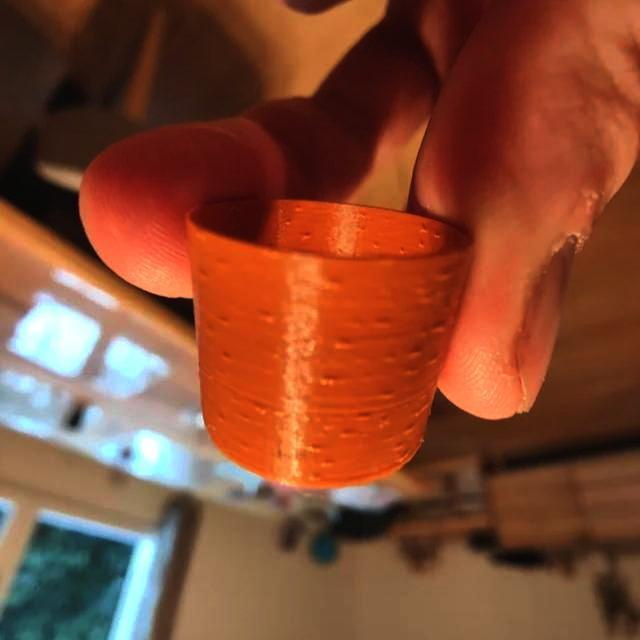zits: (332, 336, 356, 354), (192, 262, 216, 280), (315, 374, 339, 388), (315, 457, 337, 472), (306, 443, 326, 459), (426, 322, 446, 338), (373, 316, 395, 330), (215, 314, 233, 331), (262, 310, 278, 328), (338, 430, 358, 444), (218, 348, 232, 366), (374, 390, 398, 400), (384, 354, 400, 368), (298, 230, 314, 243), (250, 404, 270, 414), (358, 408, 372, 422), (368, 239, 384, 251), (404, 348, 422, 358), (394, 245, 412, 255), (282, 218, 296, 230), (414, 242, 432, 250), (419, 225, 430, 236)
